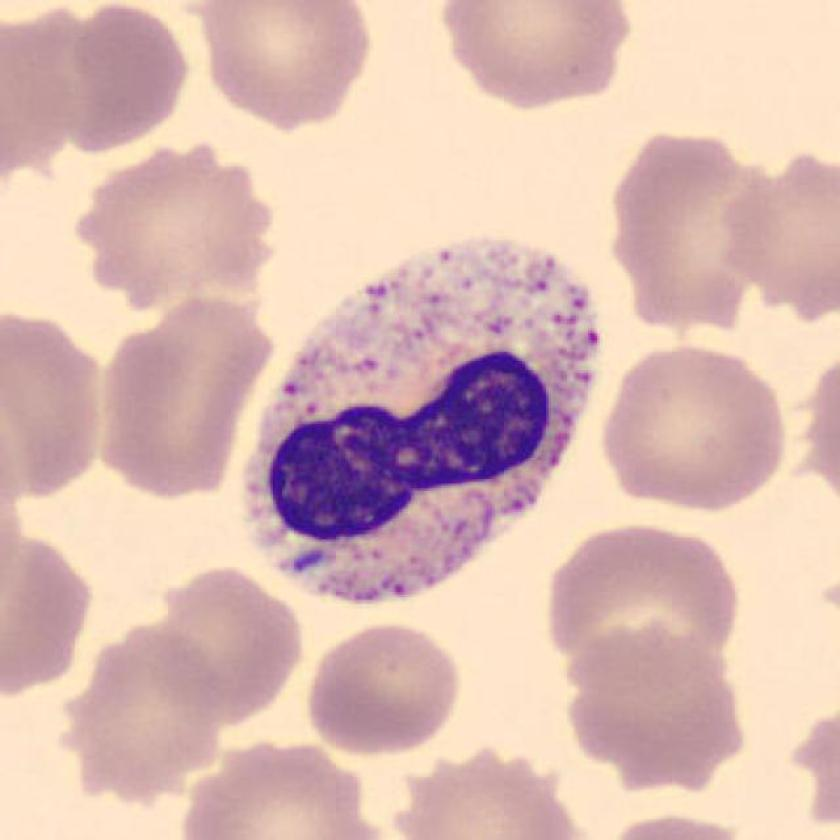neutrophil: (248, 240, 596, 603)
